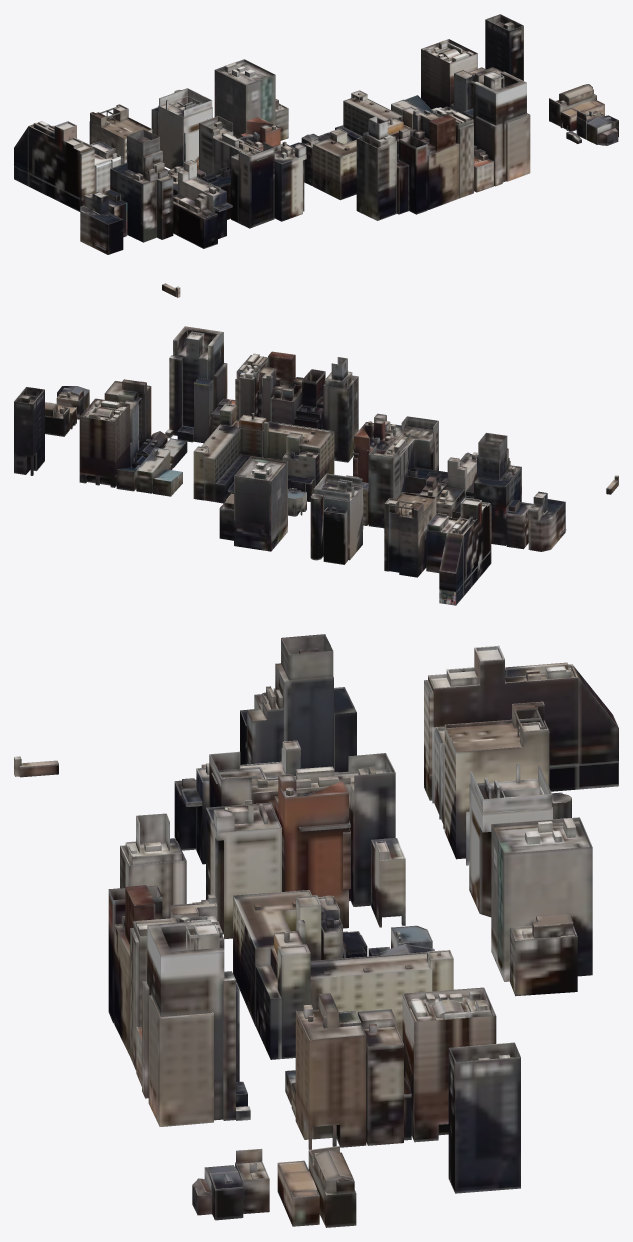
Rendered from data30.glb.
3 views of the same model, one above another, from view 1: azimuth 30°, elevation 25°; view 2: azimuth 150°, elevation 25°; view 3: azimuth 270°, elevation 25° (orthographic). The views are drawn at different scales.
Parts seen in each view (by area): view 1: PLATEAU data30 photographic walls; view 2: PLATEAU data30 photographic walls; view 3: PLATEAU data30 photographic walls.
Boxes of the visible parts, x1,y1,x2,y2 form: PLATEAU data30 photographic walls: [14, 14, 618, 297]; PLATEAU data30 photographic walls: [14, 326, 618, 605]; PLATEAU data30 photographic walls: [14, 634, 618, 1227].
Size of the model in its own units: 284 by 49.63 by 155.
Materials: 2 (1 with a texture image).
